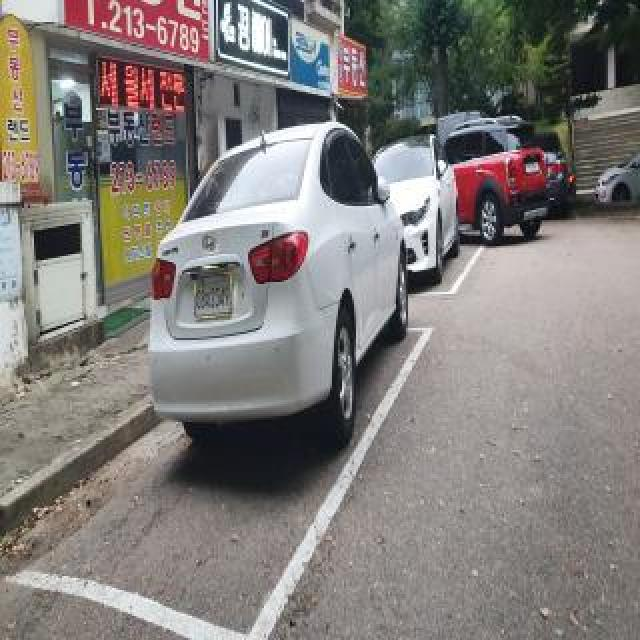car: (139, 118, 411, 455)
illegal_plate: (189, 267, 239, 322)
